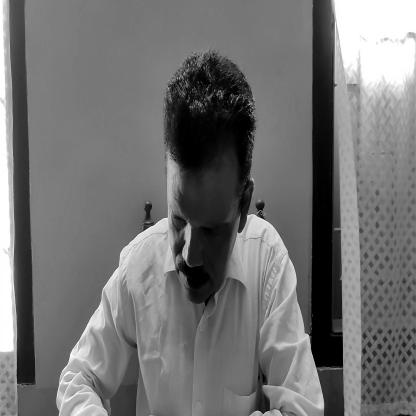Distracted: (166, 67, 254, 300)
